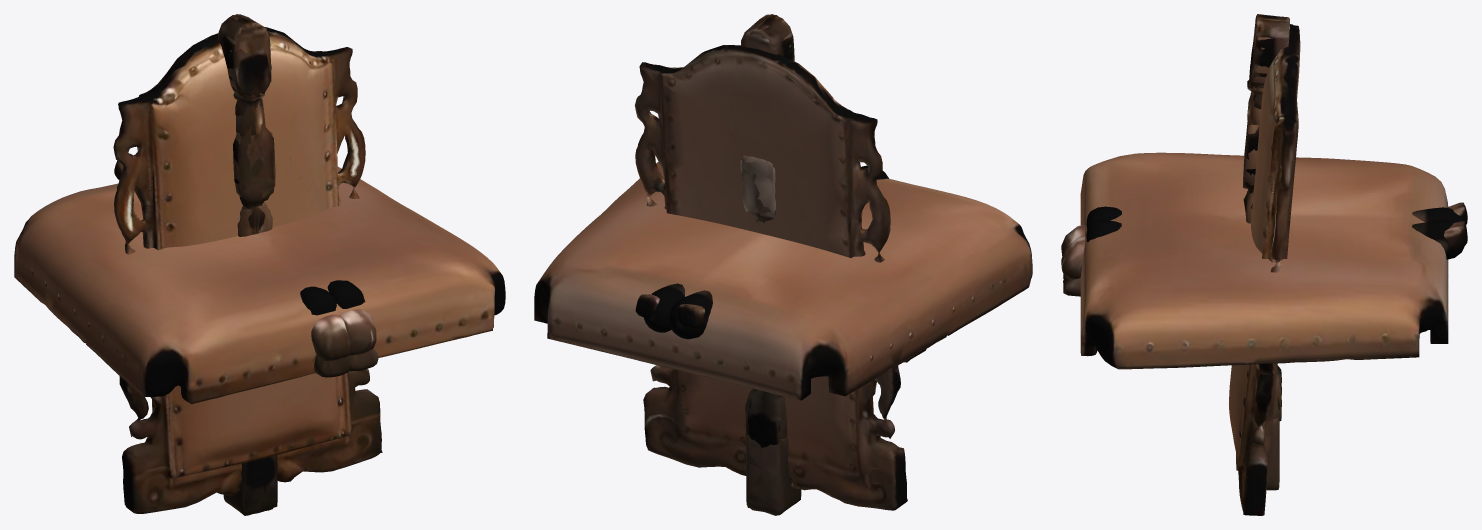
3 renders of one model, left to right at view 1: azimuth 30°, elevation 25°; view 2: azimuth 150°, elevation 25°; view 3: azimuth 270°, elevation 25°, orthographic. The views are drawn at different scales.
Visible parts, largest first — view 1: root.0.0, root.1.0, root.1.2, root.1.1, root.3, root.5, root.2, root.4, root.0.2, root.0.3; view 2: root.0.0, root.1.0, root.1.2, root.1.1, root.0.2, root.7, root.5, root.4, root.6, root.0.3, root.2; view 3: root.0.0, root.1.0, root.1.1, root.4, root.5, root.1.2, root.2, root.0.3, root.3.
Part boxes in pixels (<box>): root.0.0: <box>14,166,505,404</box>; root.1.0: <box>113,27,382,513</box>; root.1.2: <box>218,14,276,515</box>; root.1.1: <box>225,14,277,512</box>; root.3: <box>311,314,350,361</box>; root.5: <box>300,286,350,377</box>; root.2: <box>114,153,376,355</box>; root.4: <box>327,280,378,371</box>; root.0.2: <box>233,92,269,236</box>; root.0.3: <box>238,93,272,232</box>; root.0.0: <box>534,162,1032,400</box>; root.1.0: <box>634,45,907,510</box>; root.1.2: <box>742,14,801,515</box>; root.1.1: <box>741,14,794,515</box>; root.0.2: <box>748,389,787,447</box>; root.7: <box>742,155,775,222</box>; root.5: <box>644,165,888,332</box>; root.4: <box>669,290,712,339</box>; root.6: <box>740,156,775,224</box>; root.0.3: <box>745,388,785,447</box>; root.2: <box>677,304,704,328</box>; root.0.0: <box>1080,152,1448,369</box>; root.1.0: <box>1229,24,1300,515</box>; root.1.1: <box>1243,14,1289,490</box>; root.4: <box>1063,207,1465,296</box>; root.5: <box>1063,206,1464,278</box>; root.1.2: <box>1243,14,1289,490</box>; root.2: <box>1061,202,1467,280</box>; root.0.3: <box>1246,80,1281,421</box>; root.3: <box>1061,221,1467,256</box>.
Size of the model in its own units: 20851 by 26718 by 20974.
1 material, 1 textured.
